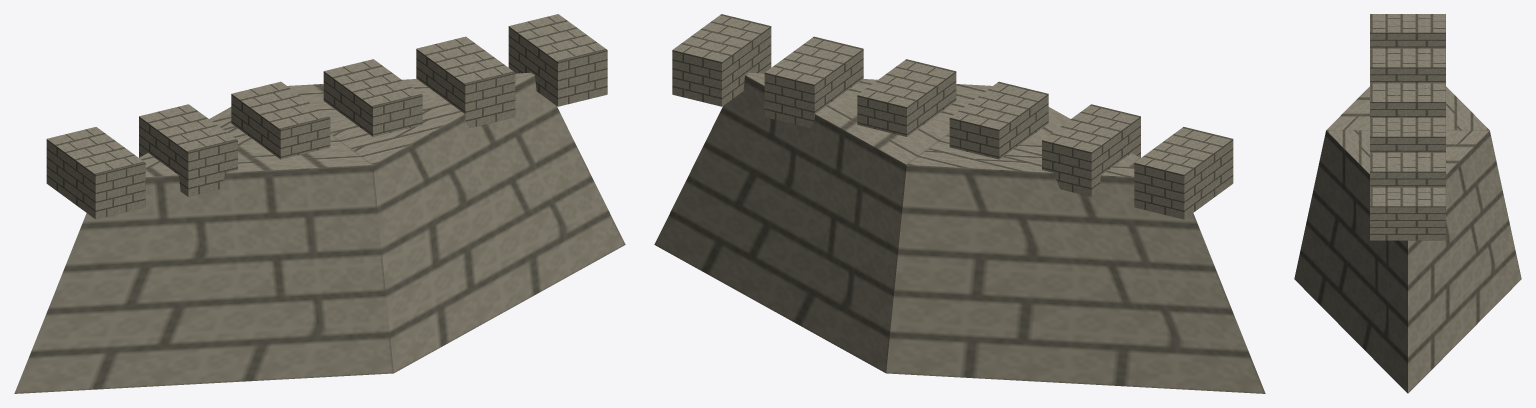
Rendered from military-STONE_WALL-1-lod0.glb.
3 renders of one model, left to right at view 1: azimuth 30°, elevation 25°; view 2: azimuth 150°, elevation 25°; view 3: azimuth 270°, elevation 25°, orthographic. The views are drawn at different scales.
Size of the model in its own units: 0.86 by 0.3 by 0.36.
Materials: 1 (1 with a texture image).
